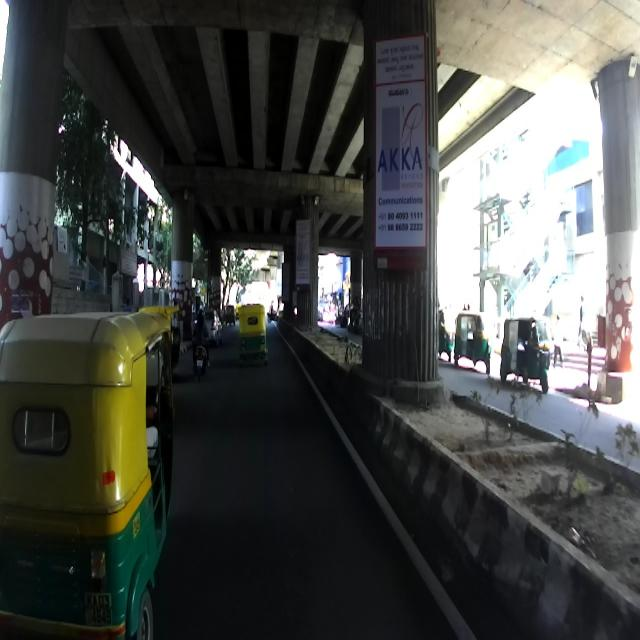autorickshaw: (0, 304, 178, 638), (499, 314, 551, 391)
scooter: (192, 315, 210, 380)
